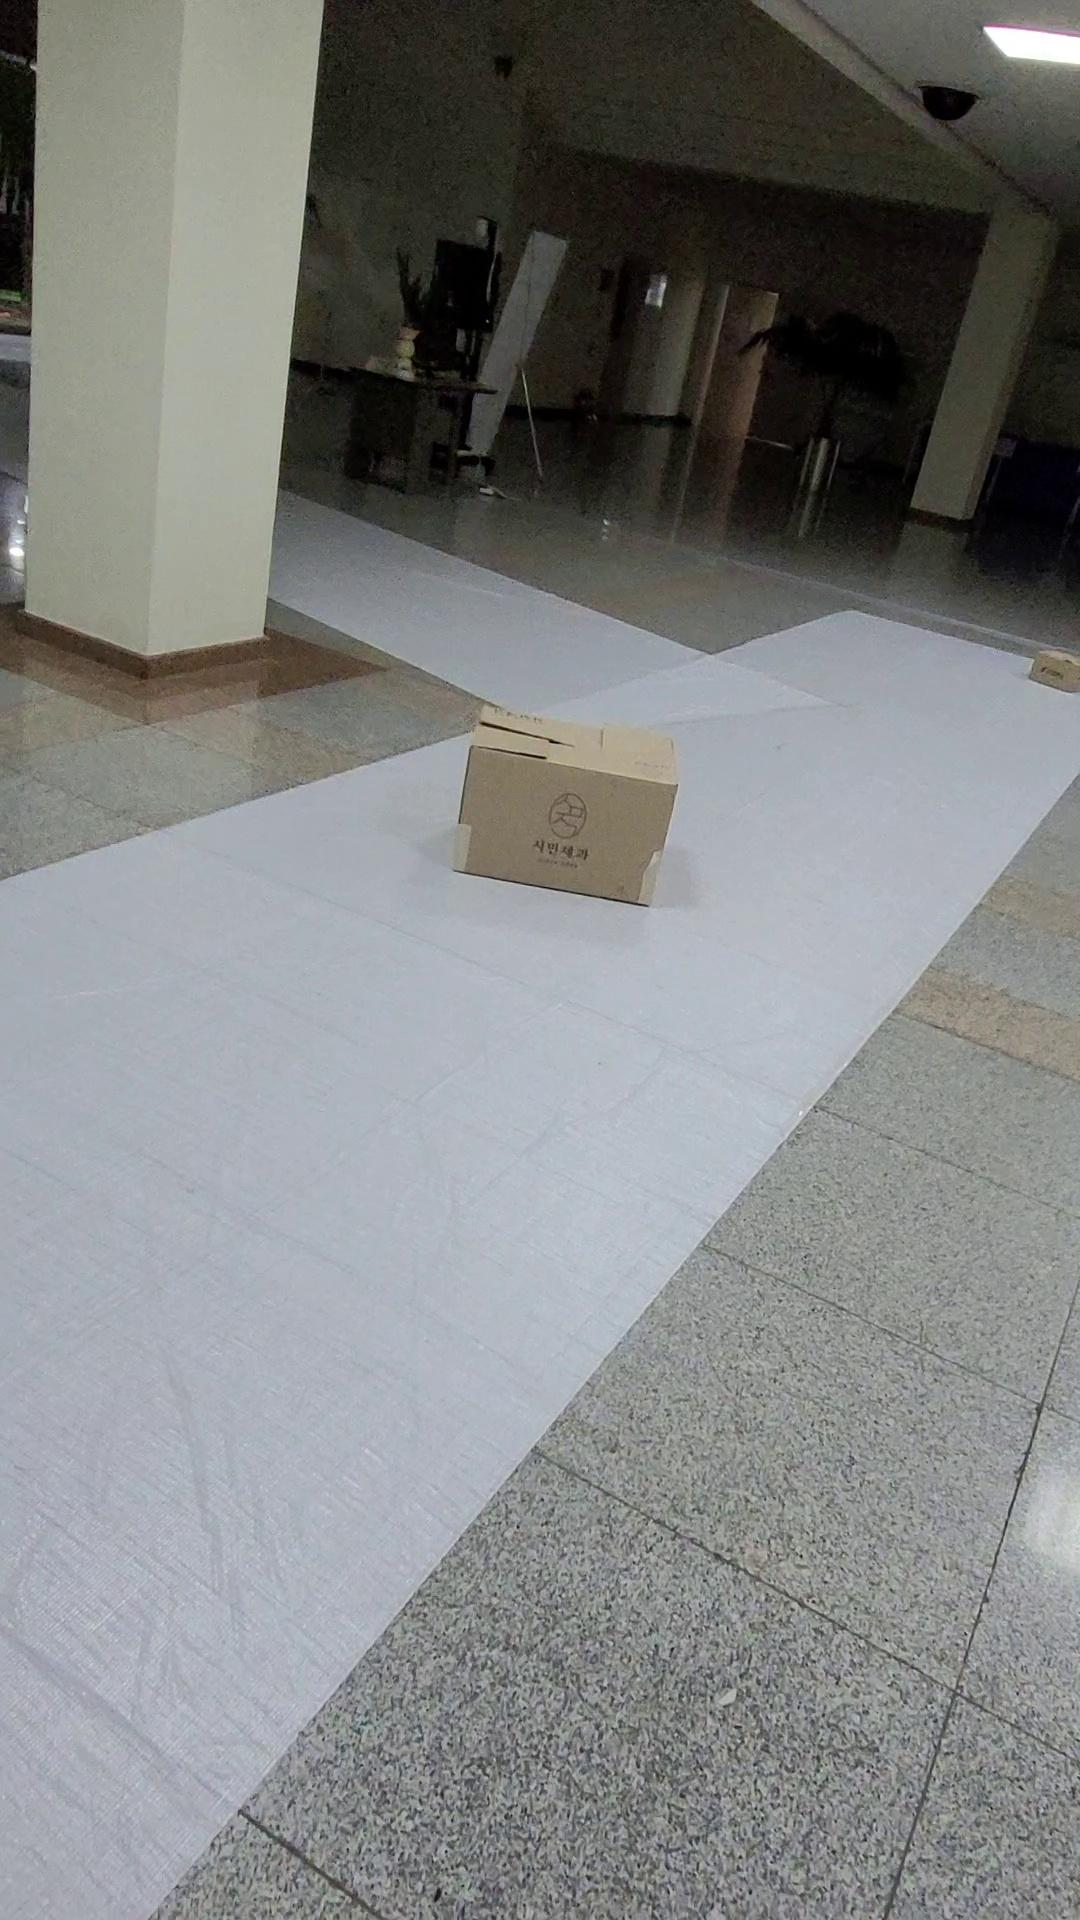Box: (433, 695, 709, 935), (1015, 633, 1080, 725)
